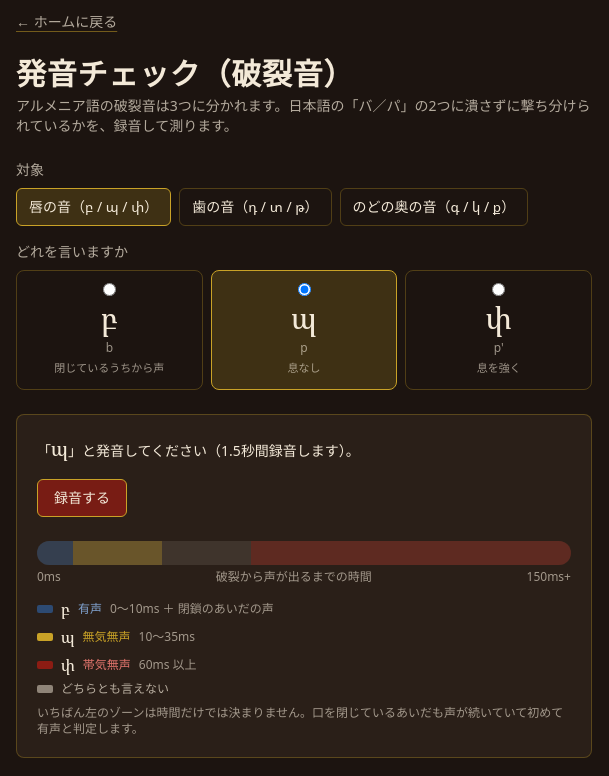
Test: VotPractice › 帯気の長い VOT を無気無声のつもりで録音すると、方向を示す指示が出る
What coordinates should you click on to do the following:
click the button "録音する"
I would click on:
 (82, 498)
Its box is x1=37 y1=478 x2=127 y2=516.
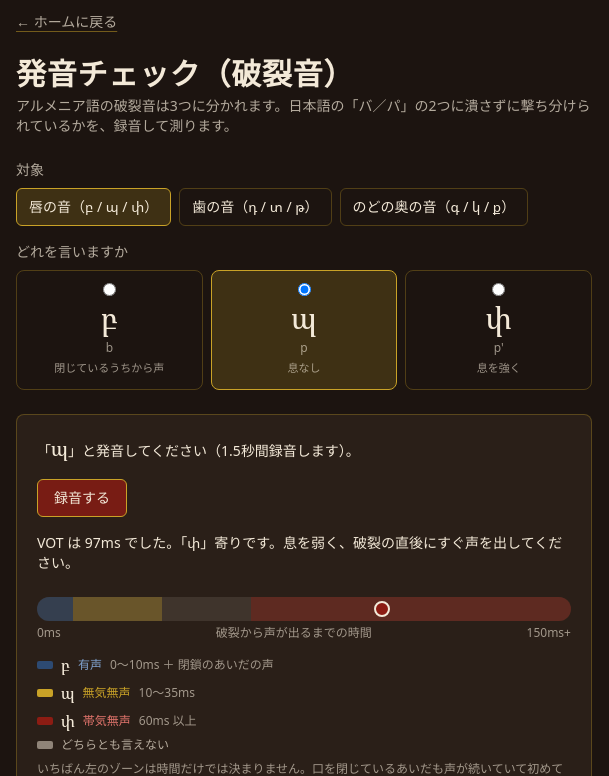
expect the text "VOT は 97ms でした。「փ」寄りです。息を弱く、破裂の直後にすぐ声を出してください。" is shown: met, box x1=37 y1=532 x2=571 y2=572
